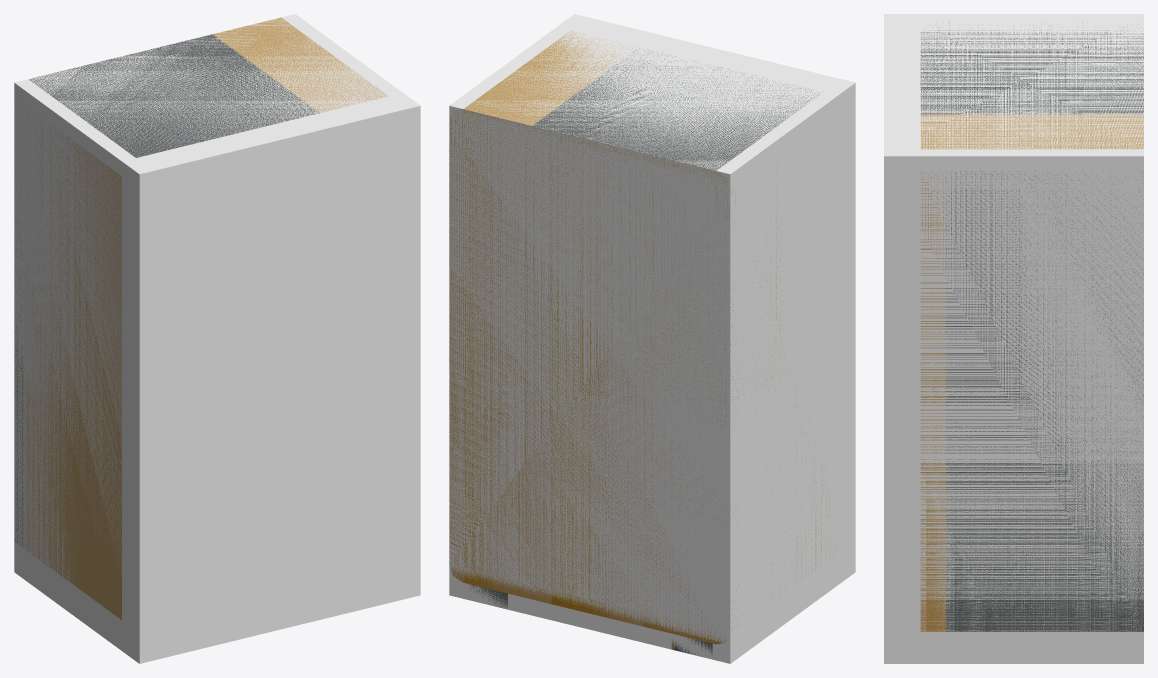
Rendered from objects_un_chipsmachine01.gltf.
3 renders of one model, left to right at view 1: azimuth 30°, elevation 25°; view 2: azimuth 150°, elevation 25°; view 3: azimuth 270°, elevation 25°, orthographic. The views are drawn at different scales.
Parts seen in each view (by area): view 1: um_objects_un_chipsmachine01_model_lod0Shape:objects_un_chip (×2); view 2: um_objects_un_chipsmachine01_model_lod0Shape:objects_un_chip (×2); view 3: um_objects_un_chipsmachine01_model_lod0Shape:objects_un_chip (×2).
Boxes of the visible parts, bbox=[...] form: um_objects_un_chipsmachine01_model_lod0Shape:objects_un_chip (×2): bbox=[14, 14, 420, 663]; um_objects_un_chipsmachine01_model_lod0Shape:objects_un_chip (×2): bbox=[449, 14, 855, 663]; um_objects_un_chipsmachine01_model_lod0Shape:objects_un_chip (×2): bbox=[884, 14, 1143, 663].
Size of what is drawn, in the model's own units: 1.21 by 2.01 by 0.9341.
Materials: 4 (3 with a texture image).
